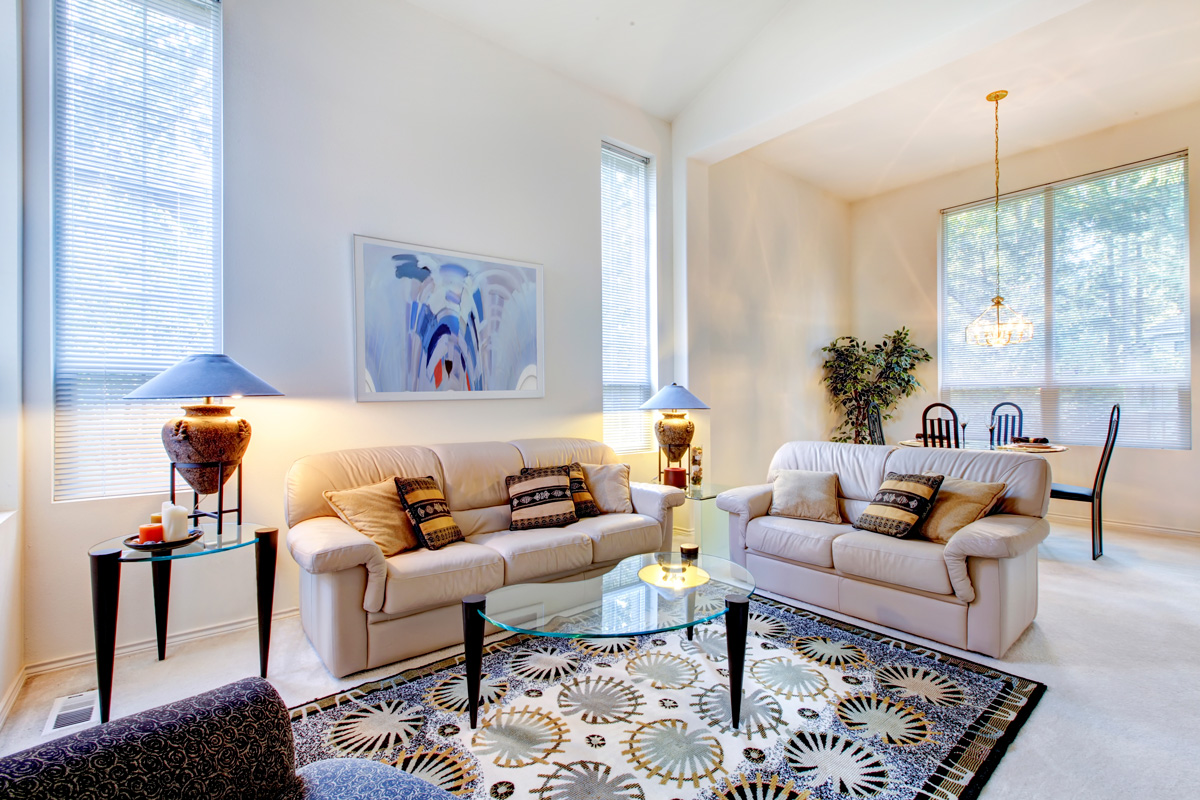biru: (132, 356, 284, 396), (642, 382, 707, 416)
hitam: (90, 551, 118, 716), (461, 592, 487, 725), (725, 599, 751, 732), (254, 529, 275, 679), (152, 558, 169, 665)
